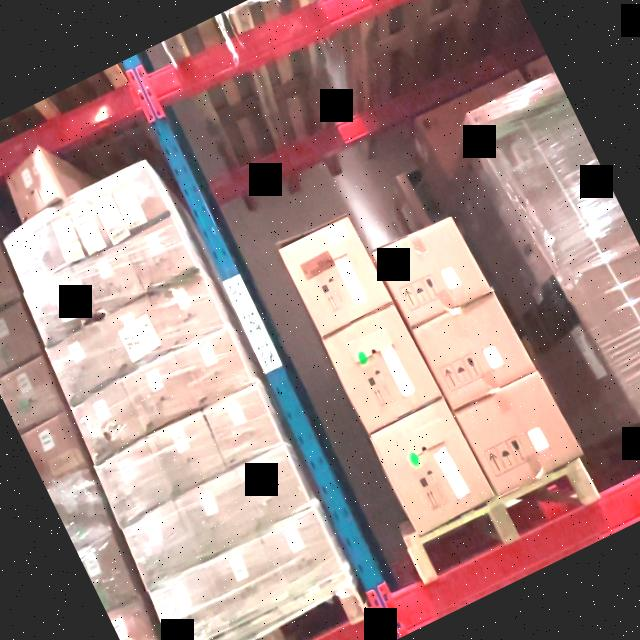box: (372, 398, 496, 531), (458, 371, 582, 494), (325, 305, 443, 432), (414, 291, 534, 410), (281, 215, 392, 335), (374, 214, 487, 326), (261, 509, 344, 596), (208, 540, 288, 624), (203, 385, 283, 466), (232, 448, 311, 529), (177, 475, 255, 557), (88, 162, 169, 240), (175, 327, 252, 406), (96, 442, 172, 521), (123, 506, 199, 584), (150, 412, 224, 492), (148, 567, 229, 640), (148, 272, 224, 348), (70, 382, 144, 458), (46, 325, 120, 400), (23, 268, 97, 342), (124, 353, 197, 428), (75, 242, 147, 314), (47, 472, 115, 546), (125, 218, 194, 289), (20, 414, 88, 486), (100, 300, 168, 370), (4, 218, 73, 286), (0, 357, 64, 430), (77, 536, 138, 610), (2, 151, 65, 217), (51, 194, 112, 259), (0, 305, 42, 374), (107, 600, 162, 640), (0, 251, 21, 320)
